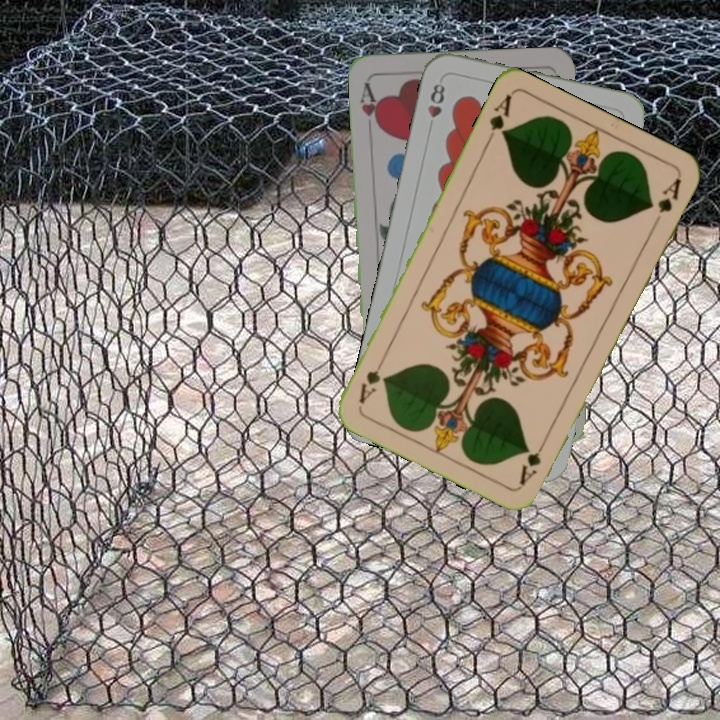GA: (514, 433, 551, 488), (482, 90, 515, 147)
H8: (423, 79, 448, 133)
HA: (356, 79, 384, 131)
